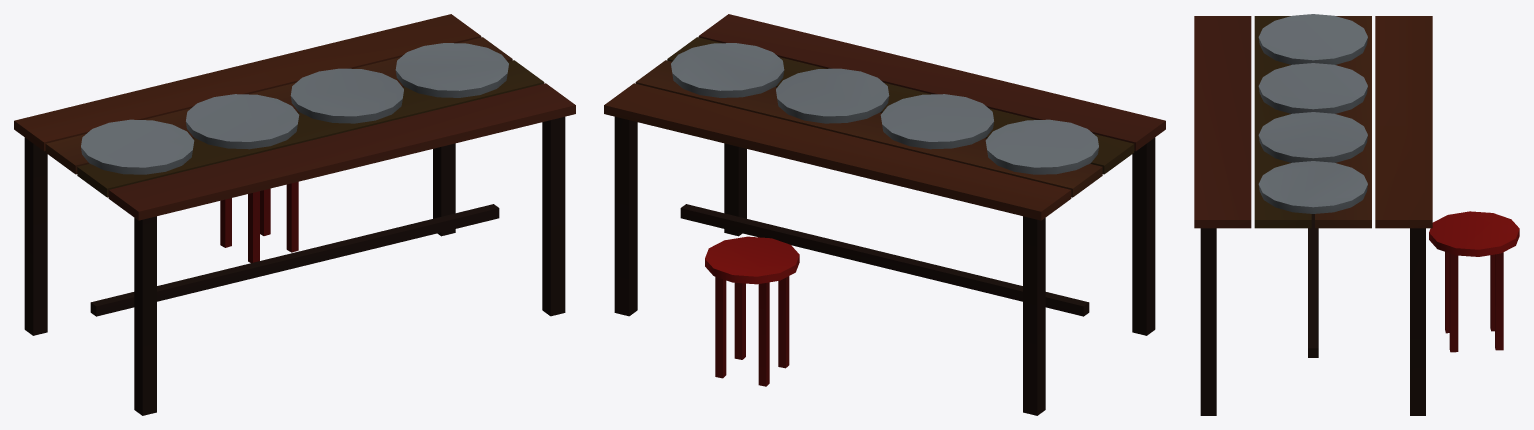
File: mk_stall_table_lod1.glb
3 renders of one model, left to right at view 1: azimuth 30°, elevation 25°; view 2: azimuth 150°, elevation 25°; view 3: azimuth 270°, elevation 25°, orthographic. The views are drawn at different scales.
Visible parts, largest first — view 1: mk_stall_table_lod1; view 2: mk_stall_table_lod1; view 3: mk_stall_table_lod1.
Part boxes in pixels (<box>): mk_stall_table_lod1: <box>14,14,575,415</box>; mk_stall_table_lod1: <box>604,14,1165,415</box>; mk_stall_table_lod1: <box>1194,14,1519,415</box>.
Bounding box in the file's own units: 1.8 × 0.85 × 1.21.
